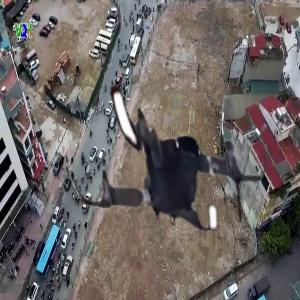drone: (61, 44, 277, 260)
